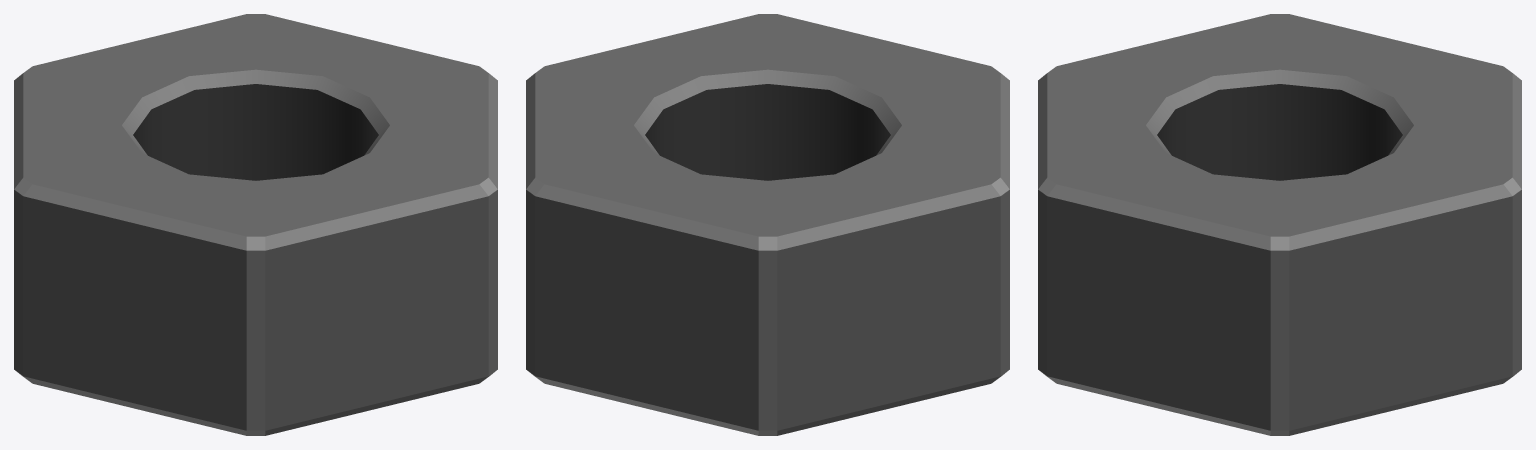
The model's file is ITEM_MATERIAL_CURRENCY_PMATERIAL_01.fbx.
The picture shows the model from 3 angles, left to right: view 1: azimuth 30°, elevation 25°; view 2: azimuth 150°, elevation 25°; view 3: azimuth 270°, elevation 25°; orthographic projection.
Visible parts, largest first — view 1: Cylinder001ITEM_MATERIAL_CURRENCY_PMATERIAL_01; view 2: Cylinder001ITEM_MATERIAL_CURRENCY_PMATERIAL_01; view 3: Cylinder001ITEM_MATERIAL_CURRENCY_PMATERIAL_01.
Part boxes in pixels (x1,y1,x2,y2): Cylinder001ITEM_MATERIAL_CURRENCY_PMATERIAL_01: (14,14,497,435); Cylinder001ITEM_MATERIAL_CURRENCY_PMATERIAL_01: (526,14,1009,435); Cylinder001ITEM_MATERIAL_CURRENCY_PMATERIAL_01: (1038,14,1521,435).
Bounding box in the file's own units: 55.8 × 22.41 × 49.27.
